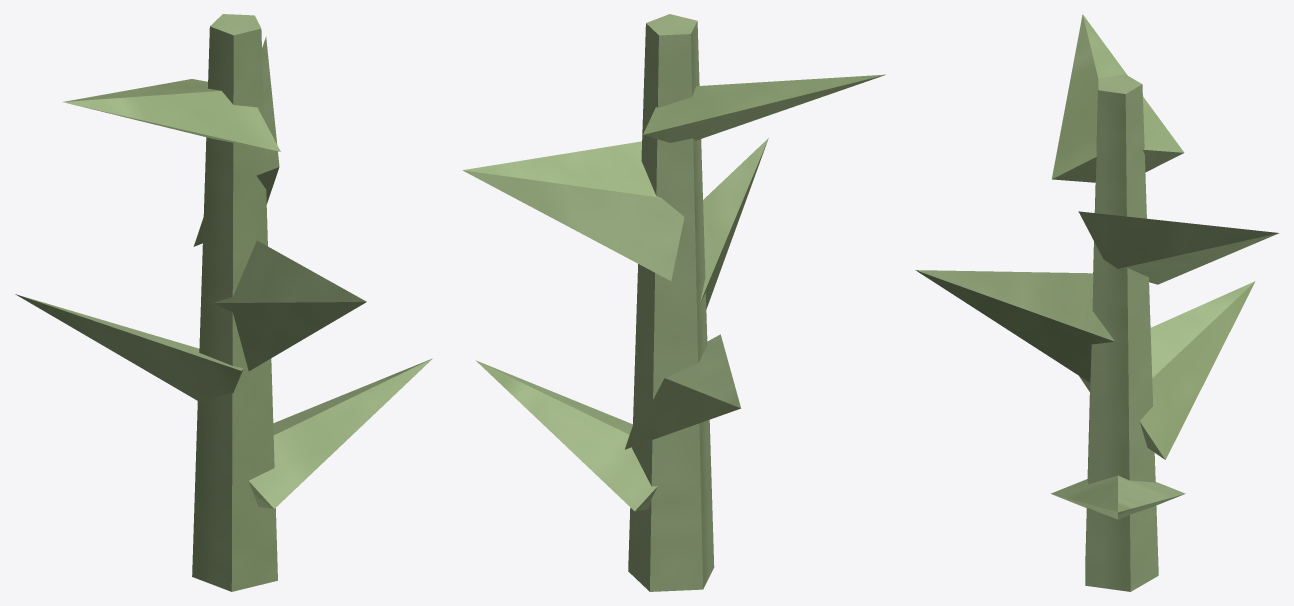
The model's file is sm_crop_tomato_2.glb.
3 views of the same model, side by side, from view 1: azimuth 30°, elevation 25°; view 2: azimuth 150°, elevation 25°; view 3: azimuth 270°, elevation 25° (orthographic). The views are drawn at different scales.
Parts seen in each view (by area): view 1: sm_crop_tomato_2; view 2: sm_crop_tomato_2; view 3: sm_crop_tomato_2.
Part boxes in pixels (x1,y1,x2,y2): sm_crop_tomato_2: (15,14,432,591); sm_crop_tomato_2: (462,14,885,591); sm_crop_tomato_2: (915,14,1279,591).
Bounding box in the file's own units: 0.1591 × 0.2133 × 0.1435.
1 material, 1 textured.
